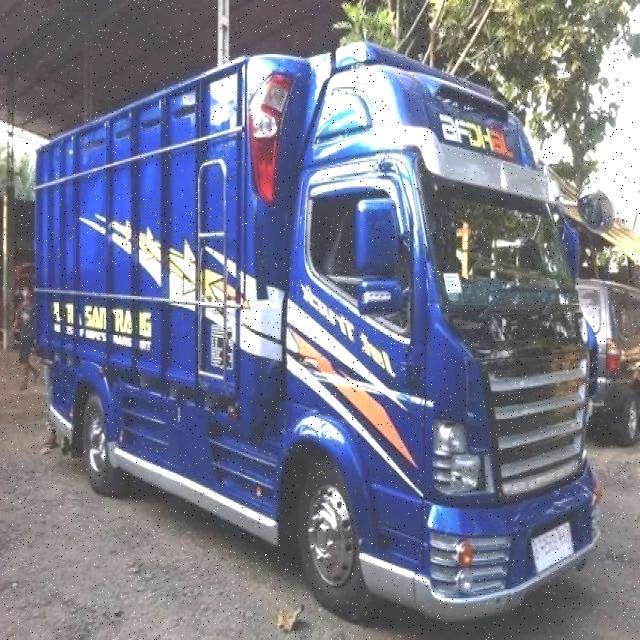truck: (36, 39, 600, 613)
